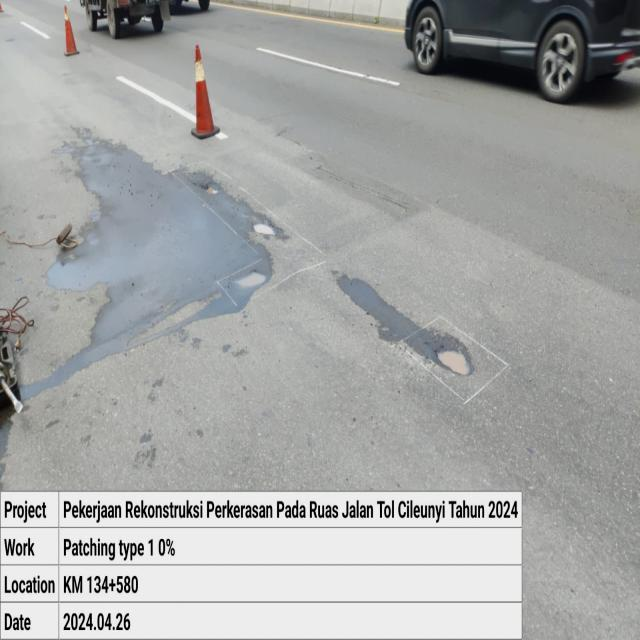Buraco: (431, 336, 478, 379), (226, 268, 270, 291), (249, 217, 285, 238), (197, 180, 223, 197)
